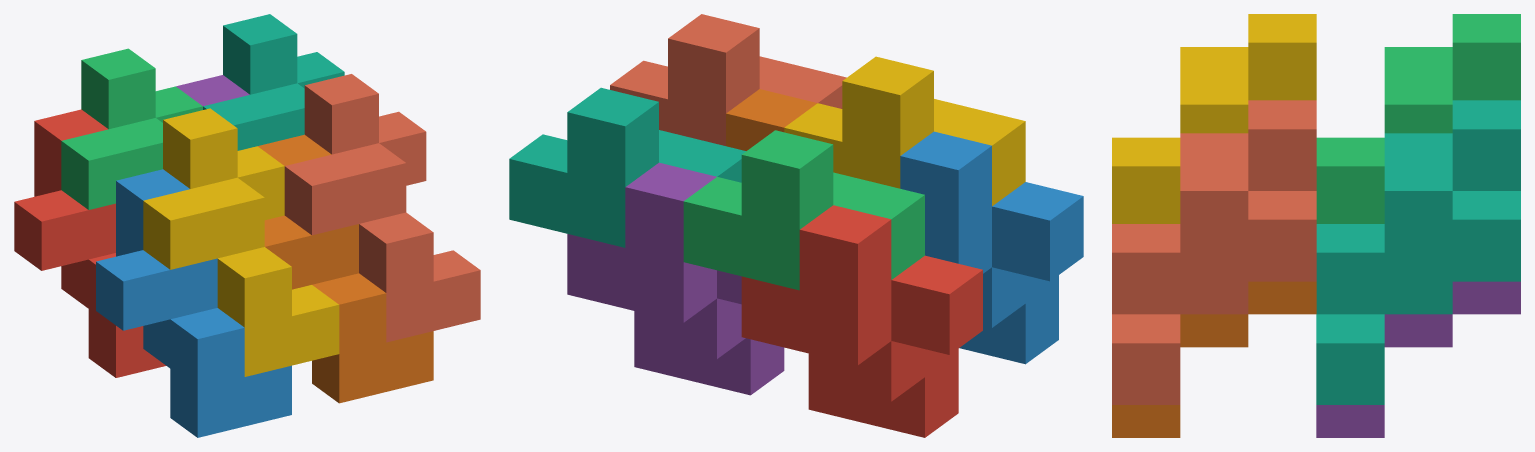
The model's file is tiling.obj.
3 renders of one model, left to right at view 1: azimuth 30°, elevation 25°; view 2: azimuth 150°, elevation 25°; view 3: azimuth 270°, elevation 25°, orthographic. The views are drawn at different scales.
Parts seen in each view (by area): view 1: copy_1_domain_8, copy_1_domain_4, copy_1_domain_2, copy_1_domain_6, copy_1_domain_1, copy_1_domain_3, copy_1_domain_7, copy_1_domain_5; view 2: copy_1_domain_1, copy_1_domain_5, copy_1_domain_2, copy_1_domain_3, copy_1_domain_7, copy_1_domain_4, copy_1_domain_8, copy_1_domain_6; view 3: copy_1_domain_7, copy_1_domain_8, copy_1_domain_3, copy_1_domain_4, copy_1_domain_6, copy_1_domain_5.
Part boxes in pixels (box(x1,y1,x2,y2)): copy_1_domain_8: box(284, 74, 480, 342); copy_1_domain_4: box(143, 108, 339, 376); copy_1_domain_2: box(96, 169, 291, 437); copy_1_domain_6: box(258, 134, 433, 403); copy_1_domain_1: box(14, 109, 166, 377); copy_1_domain_3: box(61, 48, 202, 209); copy_1_domain_7: box(203, 14, 344, 150); copy_1_domain_5: box(176, 75, 249, 106); copy_1_domain_1: box(741, 205, 982, 437); copy_1_domain_5: box(567, 162, 784, 395); copy_1_domain_2: box(900, 131, 1083, 364); copy_1_domain_3: box(683, 130, 924, 290); copy_1_domain_7: box(509, 87, 745, 247); copy_1_domain_4: box(784, 56, 1025, 206); copy_1_domain_8: box(610, 14, 846, 145); copy_1_domain_6: box(726, 89, 817, 150); copy_1_domain_7: box(1316, 100, 1520, 404); copy_1_domain_8: box(1112, 100, 1316, 404); copy_1_domain_3: box(1316, 14, 1520, 223); copy_1_domain_4: box(1112, 14, 1316, 223); copy_1_domain_6: box(1112, 281, 1316, 437); copy_1_domain_5: box(1316, 281, 1520, 437).
Size of the model in its own units: 7 by 5 by 6.
